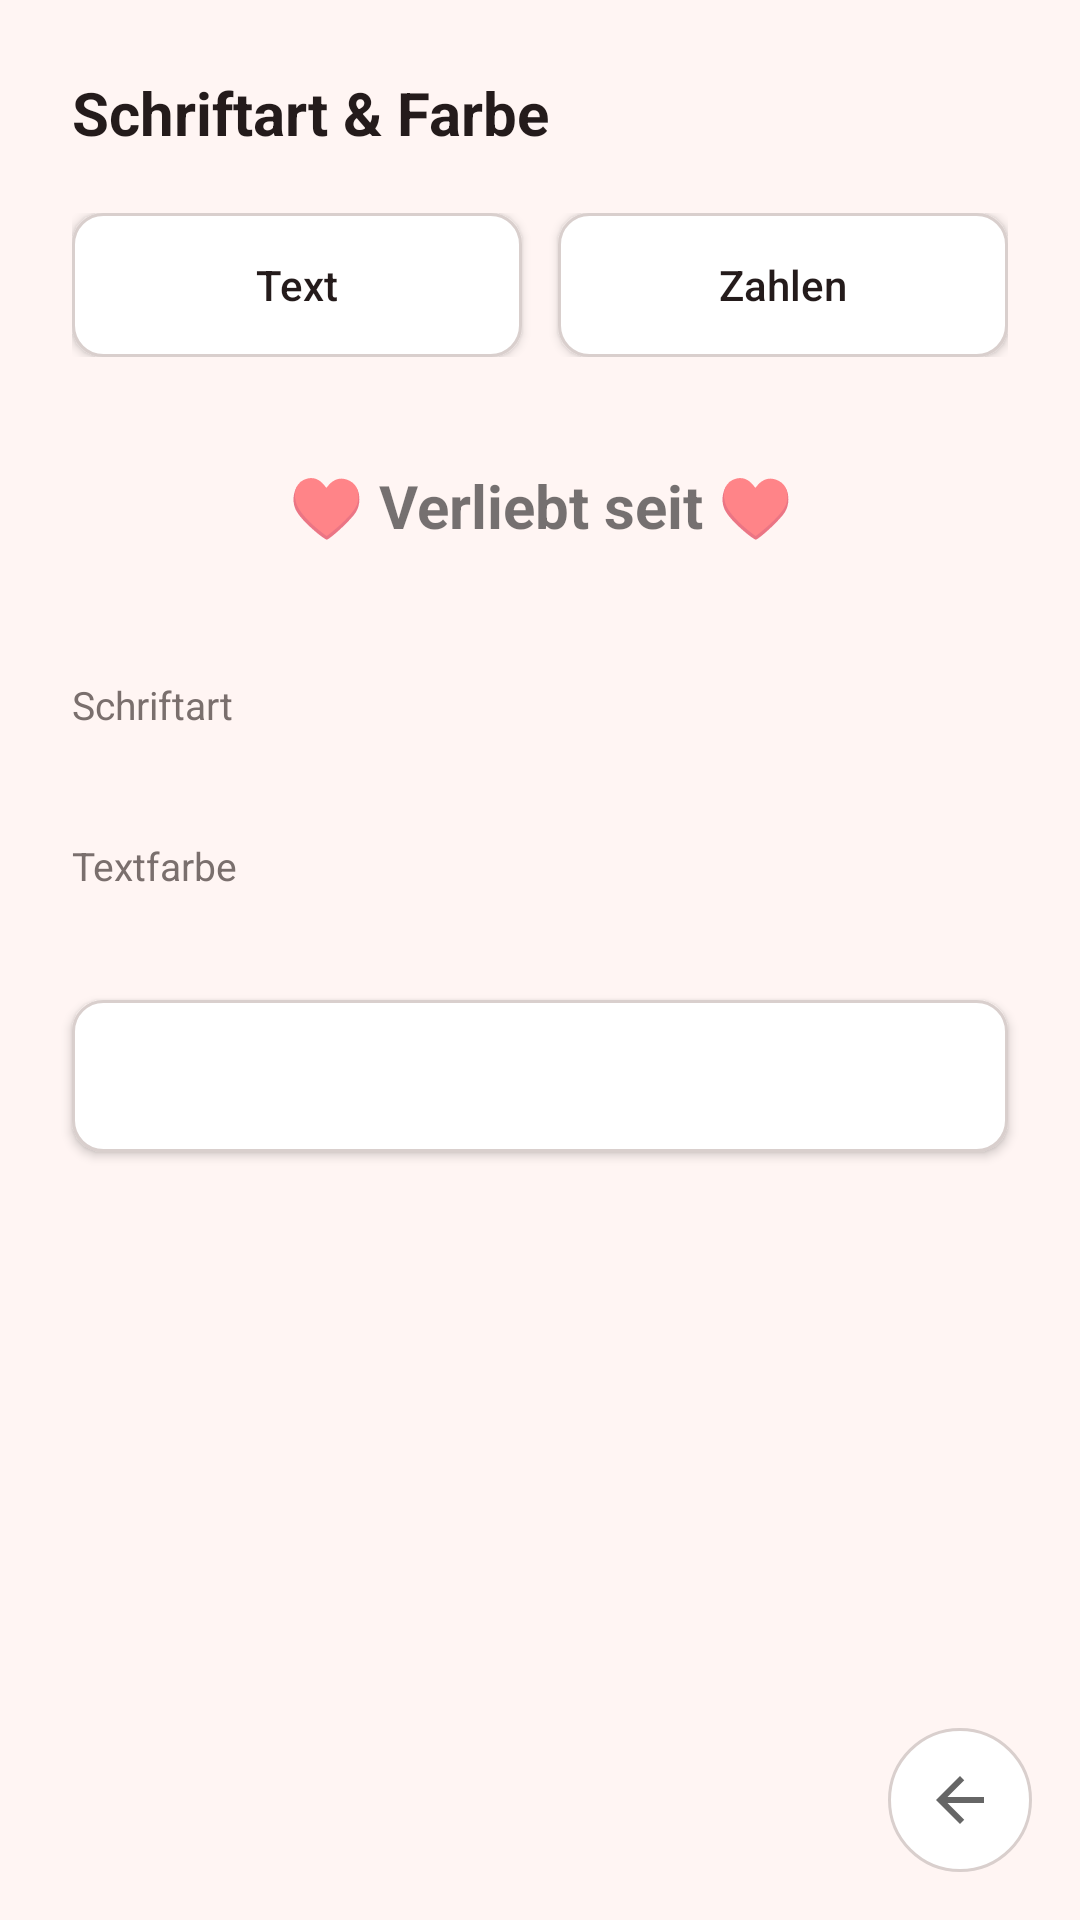

Icon bounding boxes for this 1080*1920 phone screenshot, format (x1, y1, x2, y2):
Zurück: (888, 1728, 1032, 1872)
